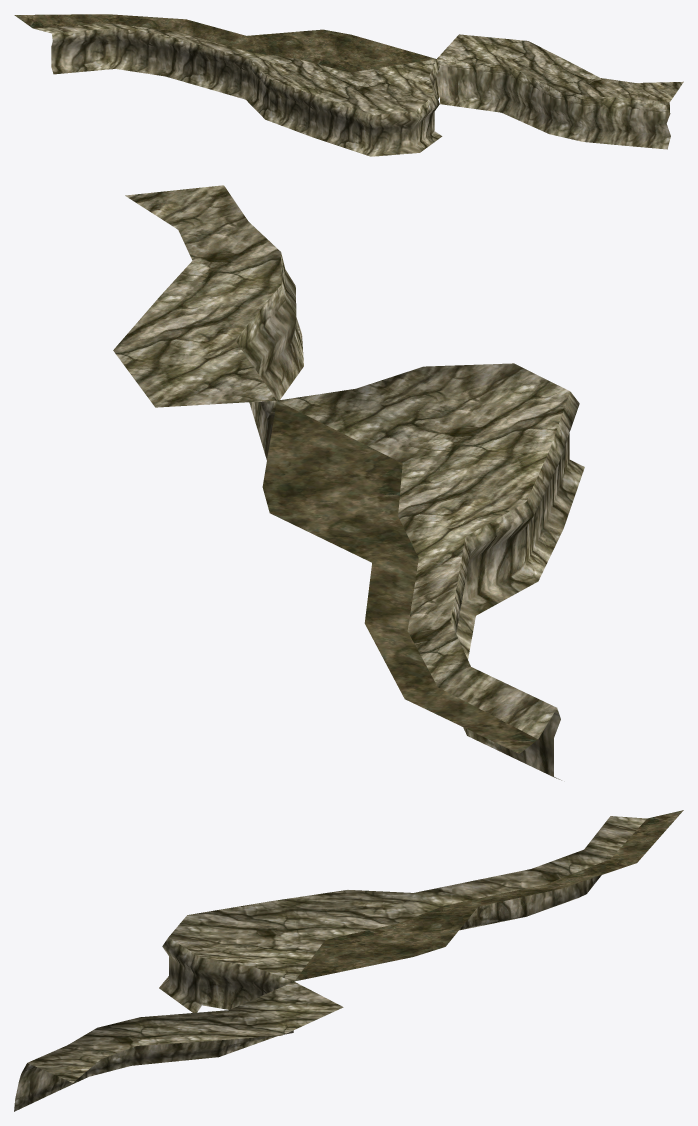
Rendered from CB_NEWPLAYSURFACE_CB_PLAYSURFACE83.fbx.
3 renders of one model, top to bottom at view 1: azimuth 30°, elevation 25°; view 2: azimuth 150°, elevation 25°; view 3: azimuth 270°, elevation 25°, orthographic. The views are drawn at different scales.
Parts seen in each view (by area): view 1: CB_NEWPLAYSURFACE_CB_PLAYSURFACE83; view 2: CB_NEWPLAYSURFACE_CB_PLAYSURFACE83; view 3: CB_NEWPLAYSURFACE_CB_PLAYSURFACE83.
Boxes of the visible parts, left/top/right/bottom form: CB_NEWPLAYSURFACE_CB_PLAYSURFACE83: left=14, top=14, right=683, bottom=156; CB_NEWPLAYSURFACE_CB_PLAYSURFACE83: left=113, top=185, right=584, bottom=780; CB_NEWPLAYSURFACE_CB_PLAYSURFACE83: left=14, top=810, right=683, bottom=1111.
Bounding box in the file's own units: 376009 × 34736 × 389175.
Materials: 3 (3 with a texture image).
